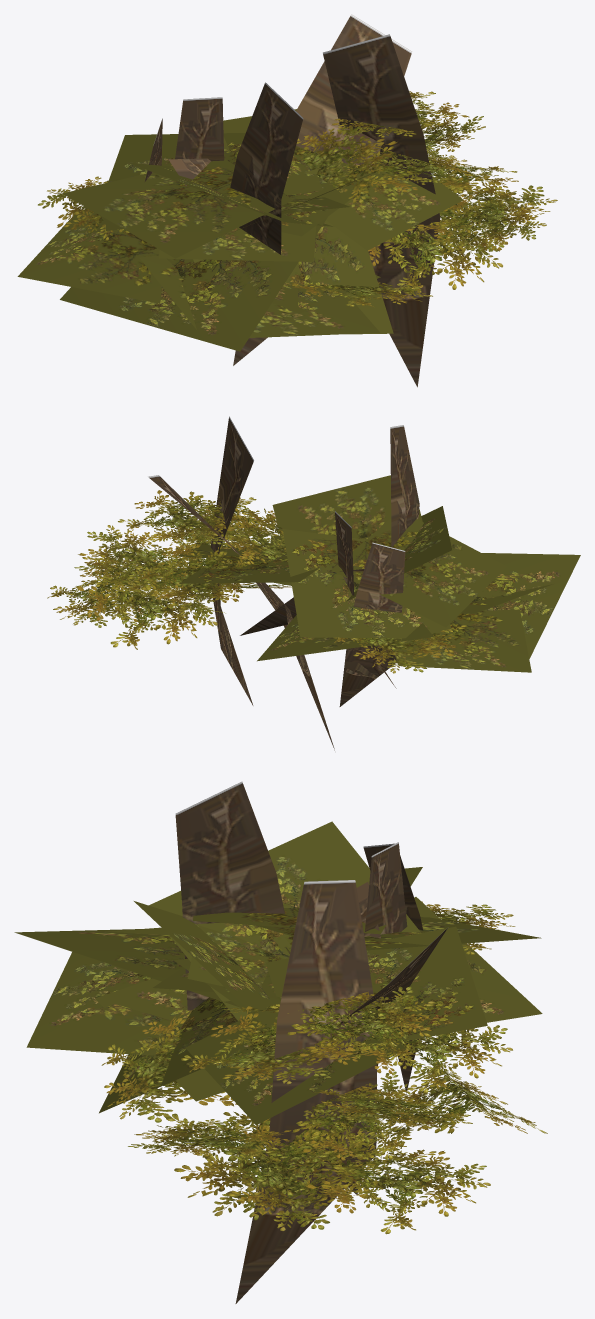
Rendered from S_Tree_Yellow058.FBX.
3 renders of one model, top to bottom at view 1: azimuth 30°, elevation 25°; view 2: azimuth 150°, elevation 25°; view 3: azimuth 270°, elevation 25°, orthographic. The views are drawn at different scales.
Visible parts, largest first — view 1: S_Tree_Yellow058; view 2: S_Tree_Yellow058; view 3: S_Tree_Yellow058.
Boxes of the visible parts, left/top/right/bottom form: S_Tree_Yellow058: left=17, top=14, right=557, bottom=387; S_Tree_Yellow058: left=47, top=416, right=580, bottom=750; S_Tree_Yellow058: left=14, top=781, right=547, bottom=1303.
Bounding box in the file's own units: 888 × 637 × 534.
